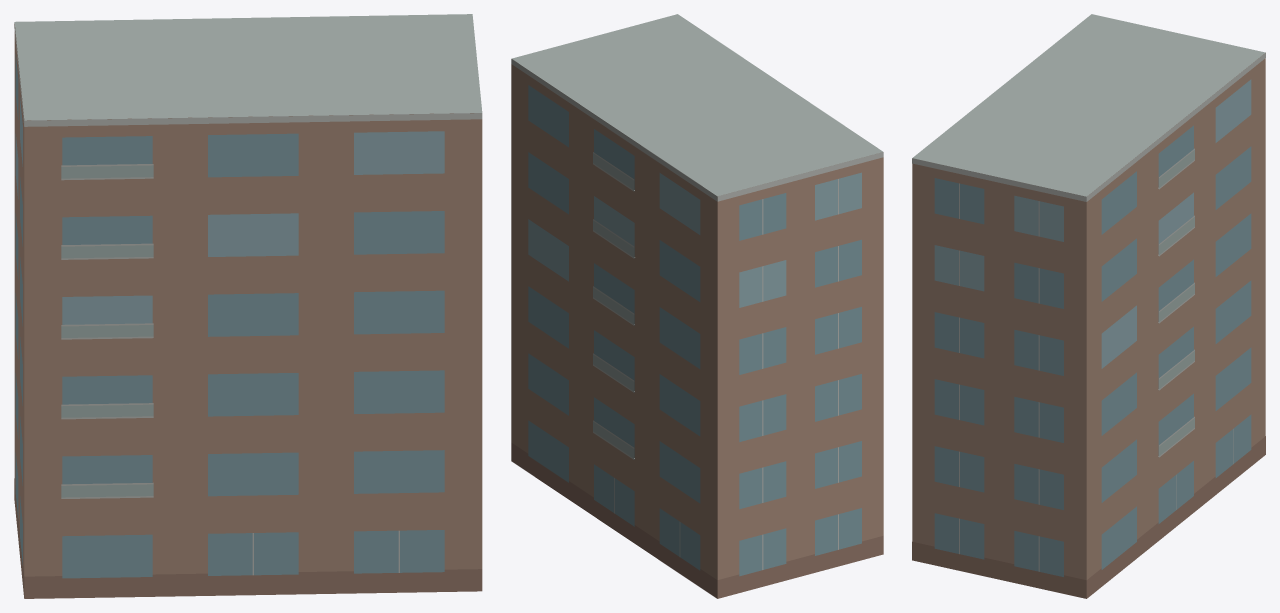
The model's file is survey-upis-32658269.glb.
3 renders of one model, left to right at view 1: azimuth 30°, elevation 25°; view 2: azimuth 150°, elevation 25°; view 3: azimuth 270°, elevation 25°, orthographic. The views are drawn at different scales.
Parts seen in each view (by area): view 1: survey-upis-32658269.tmp; view 2: survey-upis-32658269.tmp; view 3: survey-upis-32658269.tmp.
Part boxes in pixels (box(x1,y1,x2,y2)): survey-upis-32658269.tmp: box(14, 14, 482, 598); survey-upis-32658269.tmp: box(511, 14, 883, 598); survey-upis-32658269.tmp: box(912, 14, 1265, 598).
Bounding box in the file's own units: 17.84 × 18.3 × 14.59.
